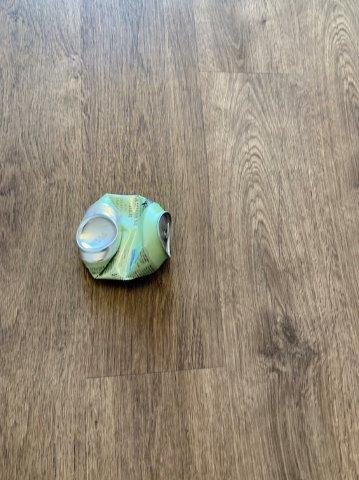kaleng: (75, 194, 170, 281)
